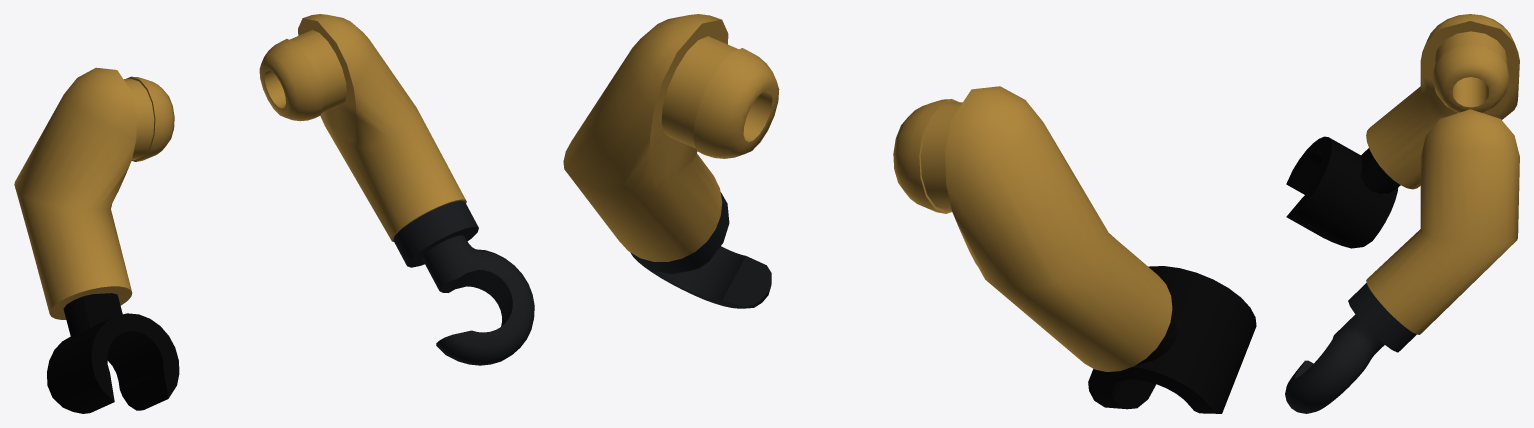
3 renders of one model, left to right at view 1: azimuth 30°, elevation 25°; view 2: azimuth 150°, elevation 25°; view 3: azimuth 270°, elevation 25°, orthographic. The views are drawn at different scales.
Parts seen in each view (by area): view 1: Part.0, Part.2, Part.1, Part.3; view 2: Part.0, Part.2, Part.1, Part.3; view 3: Part.2, Part.0, Part.1, Part.3.
Boxes of the visible parts, box(x1,y1,x2,y2) form: Part.0: box(14, 67, 174, 319); Part.2: box(259, 14, 466, 241); Part.1: box(47, 293, 179, 413); Part.3: box(393, 200, 534, 365); Part.0: box(893, 86, 1172, 371); Part.2: box(563, 14, 779, 261); Part.1: box(1088, 266, 1256, 413); Part.3: box(630, 192, 771, 308); Part.2: box(1366, 109, 1519, 334); Part.0: box(1366, 14, 1519, 189); Part.1: box(1286, 136, 1400, 248); Part.3: box(1285, 283, 1416, 413).
Size of the model in its own units: 25.86 by 15.9 by 12.78.
